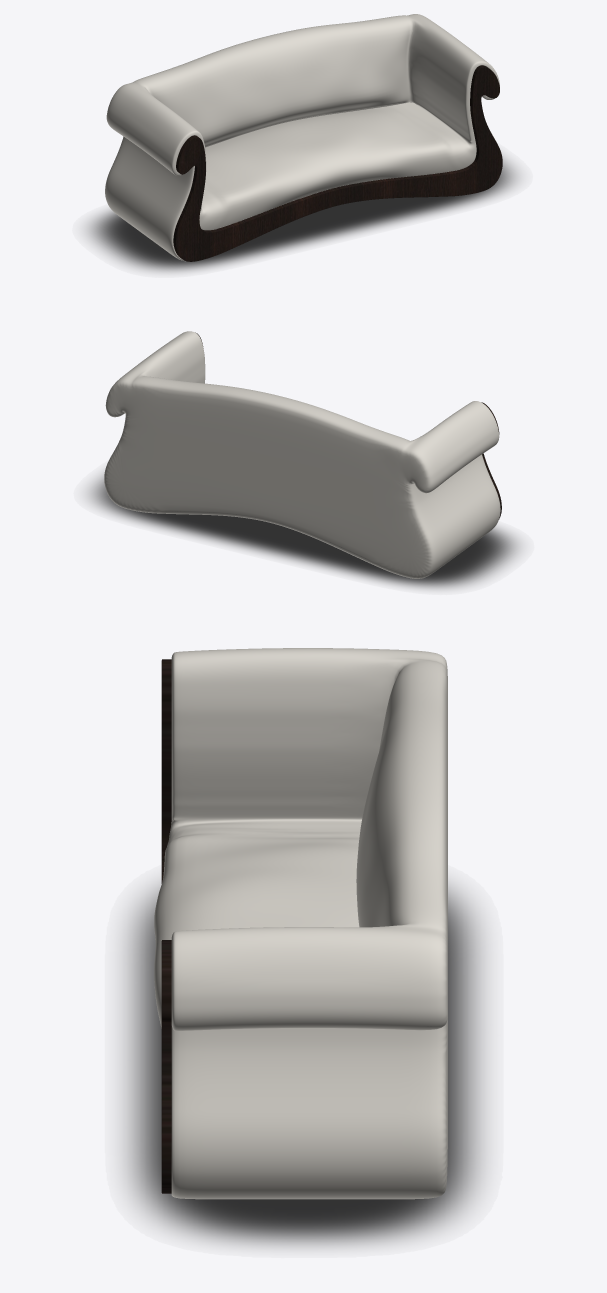
File: trescani_sofa.glb
3 renders of one model, top to bottom at view 1: azimuth 30°, elevation 25°; view 2: azimuth 150°, elevation 25°; view 3: azimuth 270°, elevation 25°, orthographic. The views are drawn at different scales.
Visible parts, largest first — view 1: Tricani Sofa_skinn_01_0, Wood_Material #33_0, Plane001; view 2: Tricani Sofa_skinn_01_0, Plane001; view 3: Tricani Sofa_skinn_01_0, Plane001, Wood_Material #33_0.
Part boxes in pixels (x1=…): Tricani Sofa_skinn_01_0: x1=105, y1=14, x2=499, y2=261; Wood_Material #33_0: x1=173, y1=65, x2=502, y2=261; Plane001: x1=87, y1=157, x2=518, y2=271; Tricani Sofa_skinn_01_0: x1=104, y1=331, x2=500, y2=578; Plane001: x1=88, y1=474, x2=519, y2=588; Tricani Sofa_skinn_01_0: x1=154, y1=648, x2=447, y2=1199; Plane001: x1=125, y1=884, x2=483, y2=1246; Wood_Material #33_0: x1=161, y1=659, x2=171, y2=1193.
Bounding box in the file's own units: 4.54 × 1.36 × 2.03.
Materials: 3 (2 with a texture image).
